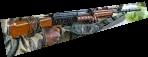gun: (0, 1, 148, 57)
